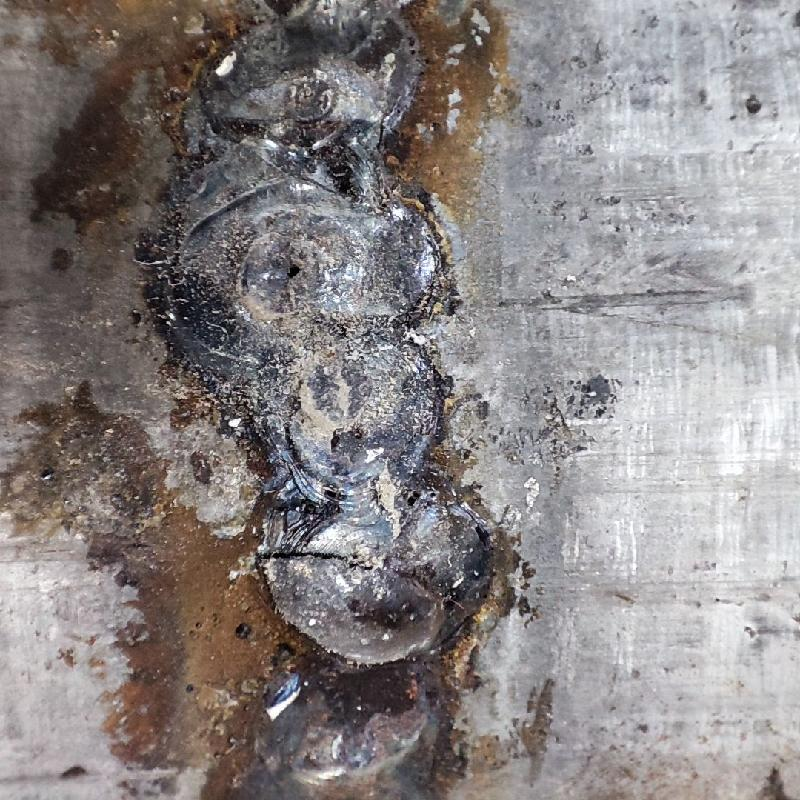Not_fully_soldered: (162, 3, 483, 645)
Surface_pores: (257, 241, 318, 293)
wrong_size: (242, 650, 445, 793)
